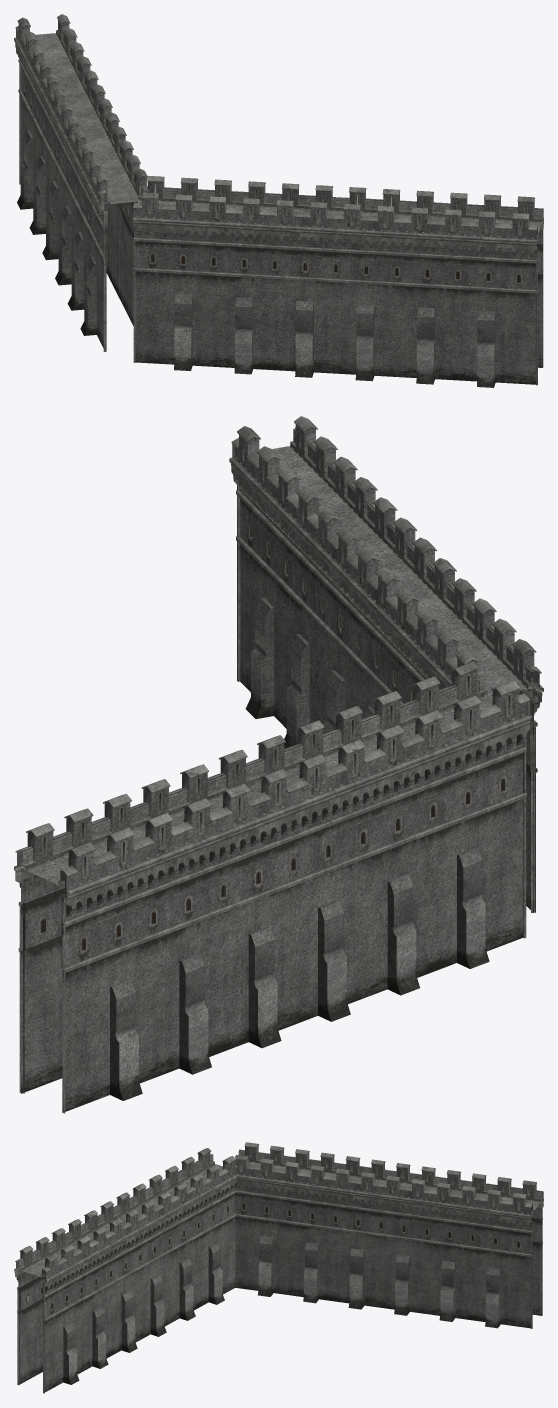
The model's file is Castle_Wall_B_Straight08.fbx.
3 renders of one model, top to bottom at view 1: azimuth 30°, elevation 25°; view 2: azimuth 150°, elevation 25°; view 3: azimuth 270°, elevation 25°, orthographic. The views are drawn at different scales.
Visible parts, largest first — view 1: Castle_Wall_B_Straight.008; view 2: Castle_Wall_B_Straight.008; view 3: Castle_Wall_B_Straight.008.
Boxes of the visible parts, x1,y1,x2,y2 form: Castle_Wall_B_Straight.008: (14,14,543,387); Castle_Wall_B_Straight.008: (14,416,543,1113); Castle_Wall_B_Straight.008: (14,1142,543,1393).
Bounding box in the file's own units: 2735 × 1383 × 4990.
